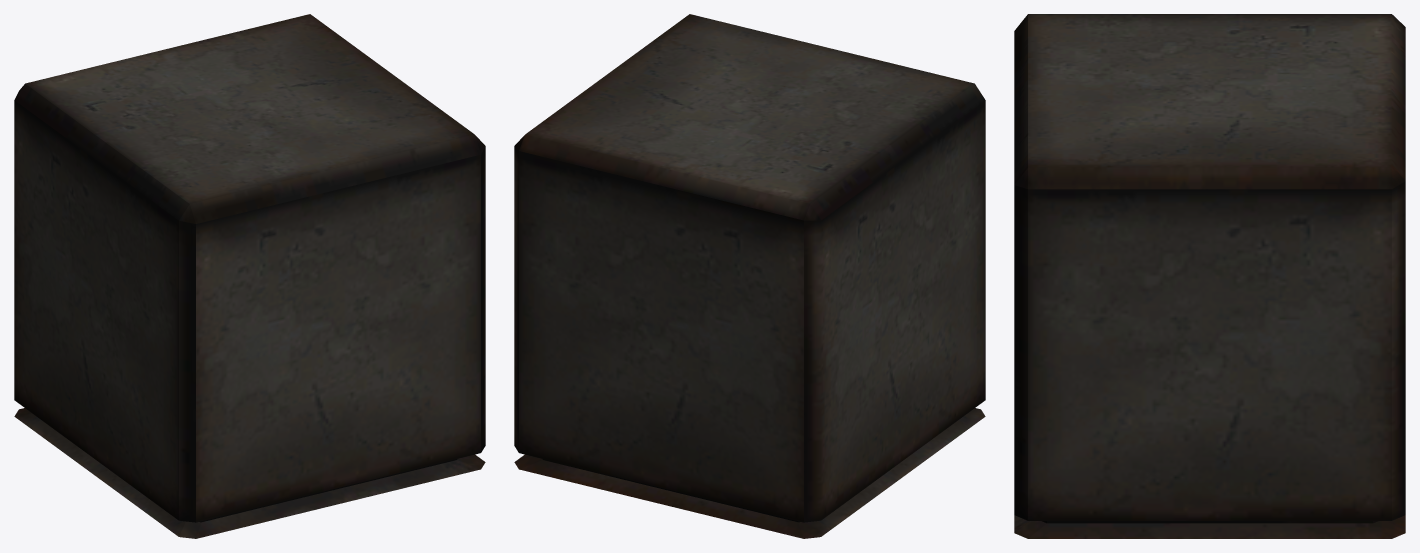
Rendered from metalBlock.obj.
3 renders of one model, left to right at view 1: azimuth 30°, elevation 25°; view 2: azimuth 150°, elevation 25°; view 3: azimuth 270°, elevation 25°, orthographic. The views are drawn at different scales.
Visible parts, largest first — view 1: wavefront_obj_acmat_0; view 2: wavefront_obj_acmat_0; view 3: wavefront_obj_acmat_0.
Part boxes in pixels (<box>): wavefront_obj_acmat_0: <box>14,14,485,538</box>; wavefront_obj_acmat_0: <box>514,14,985,538</box>; wavefront_obj_acmat_0: <box>1014,14,1405,538</box>.
Bounding box in the file's own units: 0.3818 × 0.393 × 0.3818.
Materials: 1 (1 with a texture image).
